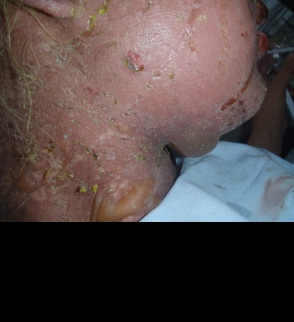SJS-TEN: (0, 0, 223, 224)
